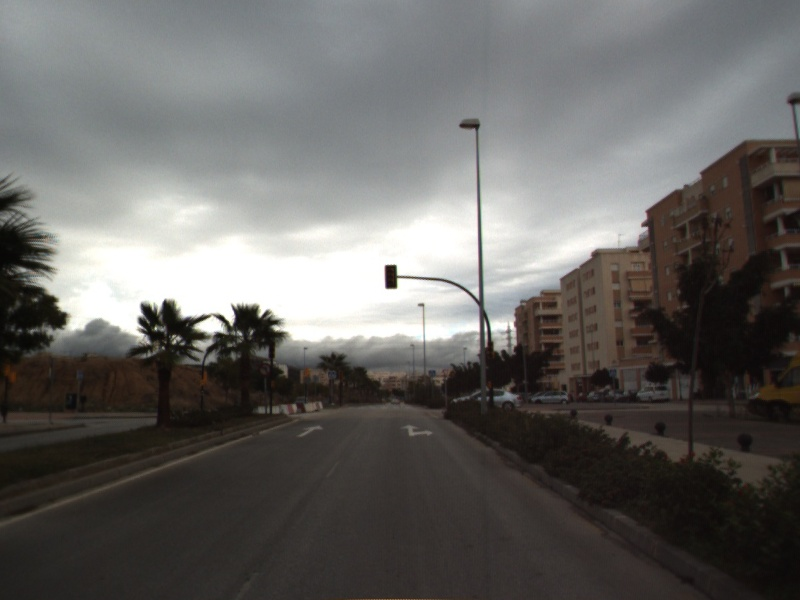STRAIGHT: (294, 423, 325, 439)
STRAIGHT_RIGHT: (399, 422, 435, 438)
